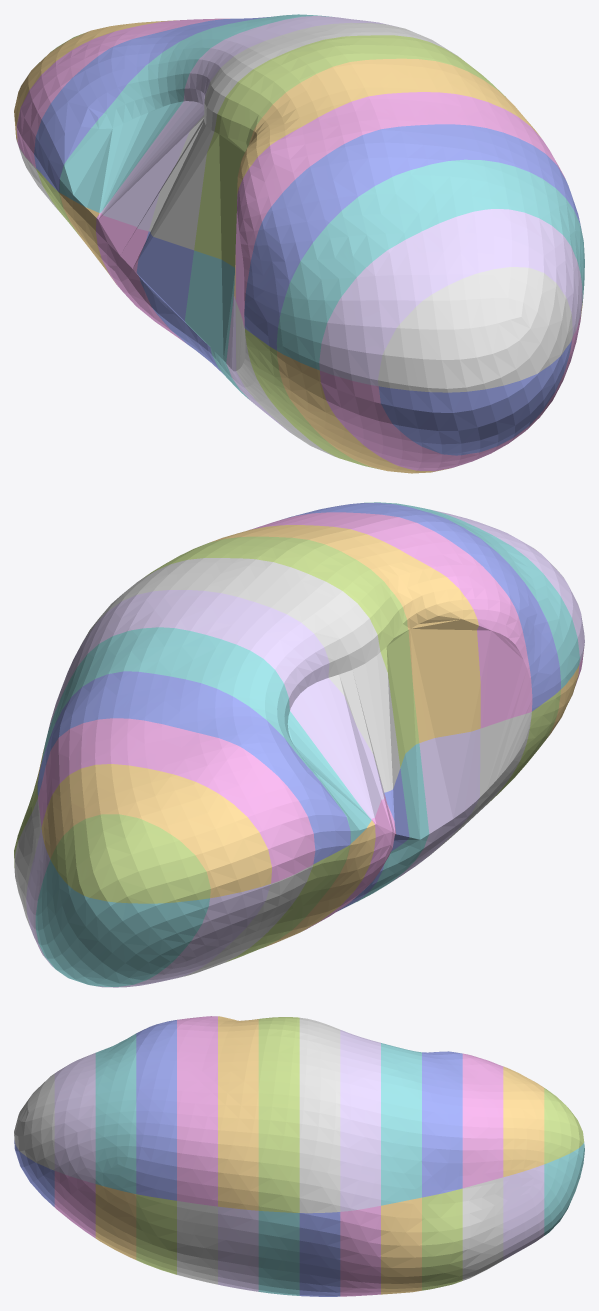
Rendered from Kidney_7-14-2.glb.
3 renders of one model, top to bottom at view 1: azimuth 30°, elevation 25°; view 2: azimuth 150°, elevation 25°; view 3: azimuth 270°, elevation 25°, orthographic. The views are drawn at different scales.
Parts seen in each view (by area): view 1: A-4-II, B-7-II, C-1-II, A-3-II, B-1-II, A-2-II, A-10-II, B-10-II, A-11-II, D-1-II, B-2-II, A-5-II (+62 smaller); view 2: A-5-II, A-6-II, B-8-II, A-6-I, B-9-II, B-7-II, B-6-II, C-14-I, A-12-II, C-14-II, B-14-II, B-13-II (+63 smaller); view 3: G-7-II, G-8-II, F-12-I, G-6-II, G-10-I, G-9-I, G-8-I, G-9-II, G-7-I, F-3-II, F-11-II, E-13-I (+67 smaller).
Part boxes in pixels (box(x1,y1,x2,y2)): A-4-II: box(244, 178, 327, 350); B-7-II: box(204, 67, 286, 267); C-1-II: box(442, 269, 523, 391); A-3-II: box(276, 225, 358, 370); B-1-II: box(389, 289, 470, 392); A-2-II: box(319, 276, 389, 386); A-10-II: box(59, 104, 141, 212); B-10-II: box(111, 51, 194, 156); A-11-II: box(34, 70, 111, 192); D-1-II: box(494, 267, 560, 378); B-2-II: box(358, 237, 441, 340); A-5-II: box(235, 149, 296, 327); A-5-II: box(451, 565, 532, 728); A-6-II: box(423, 581, 480, 741); B-8-II: box(309, 589, 390, 732); A-6-I: box(421, 729, 480, 852); B-9-II: box(279, 629, 360, 765); B-7-II: box(339, 568, 419, 754); B-6-II: box(370, 550, 450, 742); C-14-I: box(78, 893, 157, 986); A-12-II: box(240, 769, 315, 883); C-14-II: box(79, 814, 157, 903); B-14-II: box(134, 827, 209, 903); B-13-II: box(158, 779, 239, 882); G-7-II: box(258, 1116, 299, 1212); G-8-II: box(299, 1116, 340, 1213); F-12-I: box(462, 1179, 503, 1280); G-6-II: box(218, 1119, 258, 1210); G-10-I: box(381, 1197, 421, 1287); G-9-I: box(340, 1206, 380, 1289); G-8-I: box(299, 1212, 340, 1289); G-9-II: box(340, 1122, 380, 1211); G-7-I: box(258, 1211, 299, 1287); F-3-II: box(95, 1106, 136, 1193); F-11-II: box(422, 1110, 462, 1196); E-13-I: box(503, 1164, 544, 1260).
Bounding box in the file's own units: 65.53 × 62.2 × 134.
